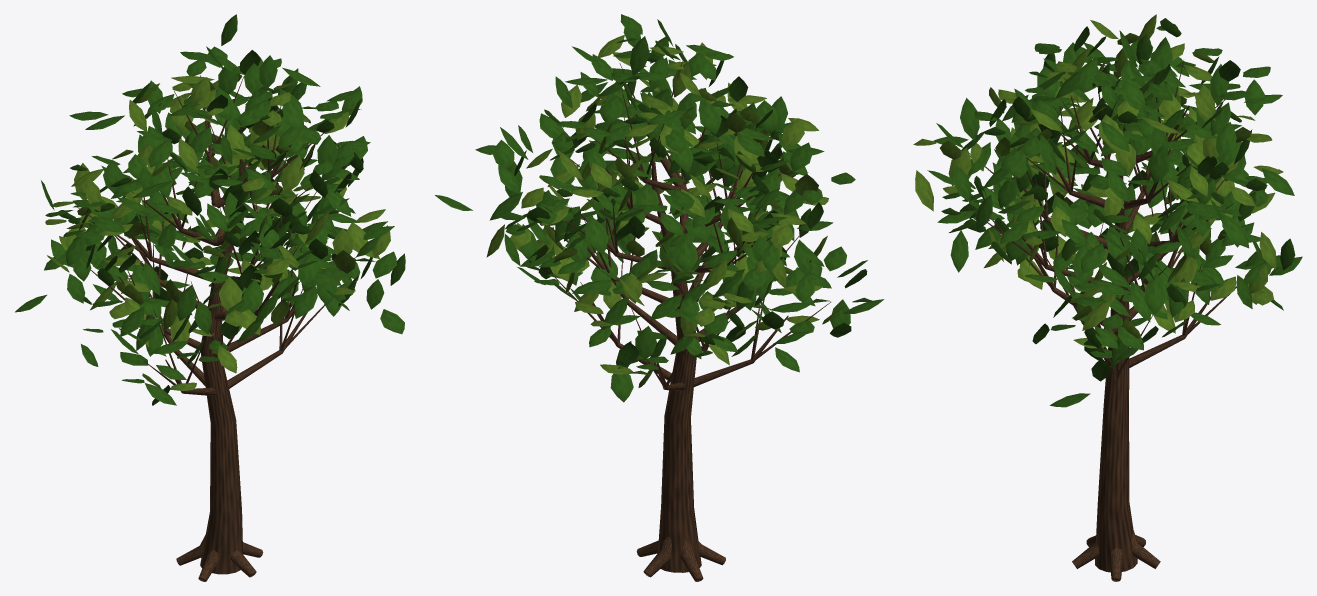
Rendered from tree.glb.
3 views of the same model, side by side, from view 1: azimuth 30°, elevation 25°; view 2: azimuth 150°, elevation 25°; view 3: azimuth 270°, elevation 25° (orthographic). The views are drawn at different scales.
Visible parts, largest first — view 1: tree; view 2: tree; view 3: tree.
Part boxes in pixels (x1,y1,x2,y2): tree: (15,14,405,581); tree: (435,14,884,581); tree: (913,14,1302,581).
Bounding box in the file's own units: 2.14 × 2.99 × 1.9.
Materials: 3 (3 with a texture image).
